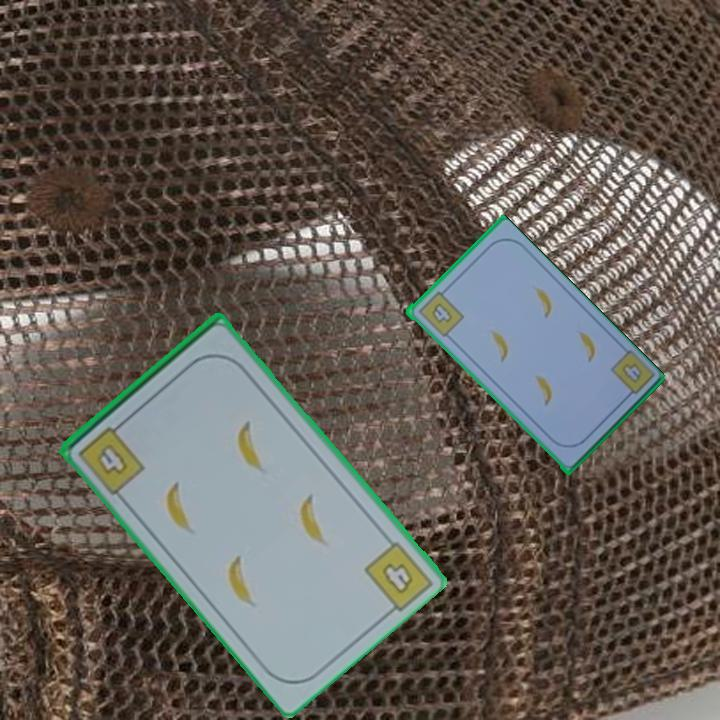4b: (74, 416, 148, 498), (606, 347, 656, 404), (414, 285, 466, 339), (378, 559, 417, 598)
